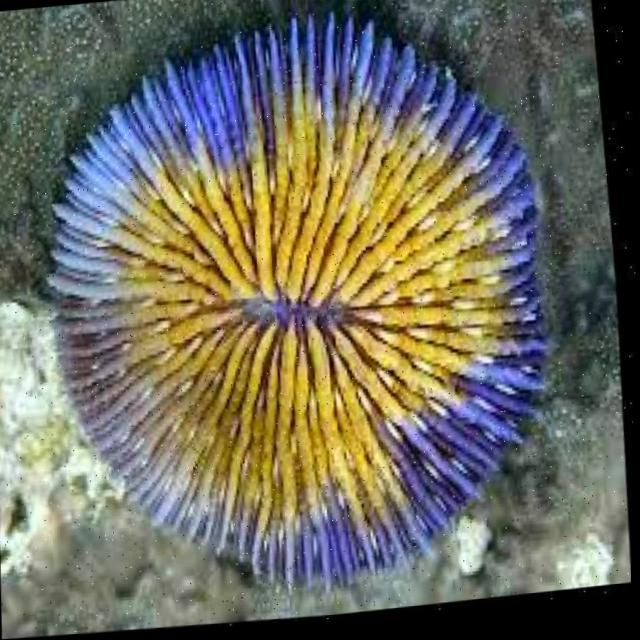Healthy Coral: (10, 0, 600, 639)
